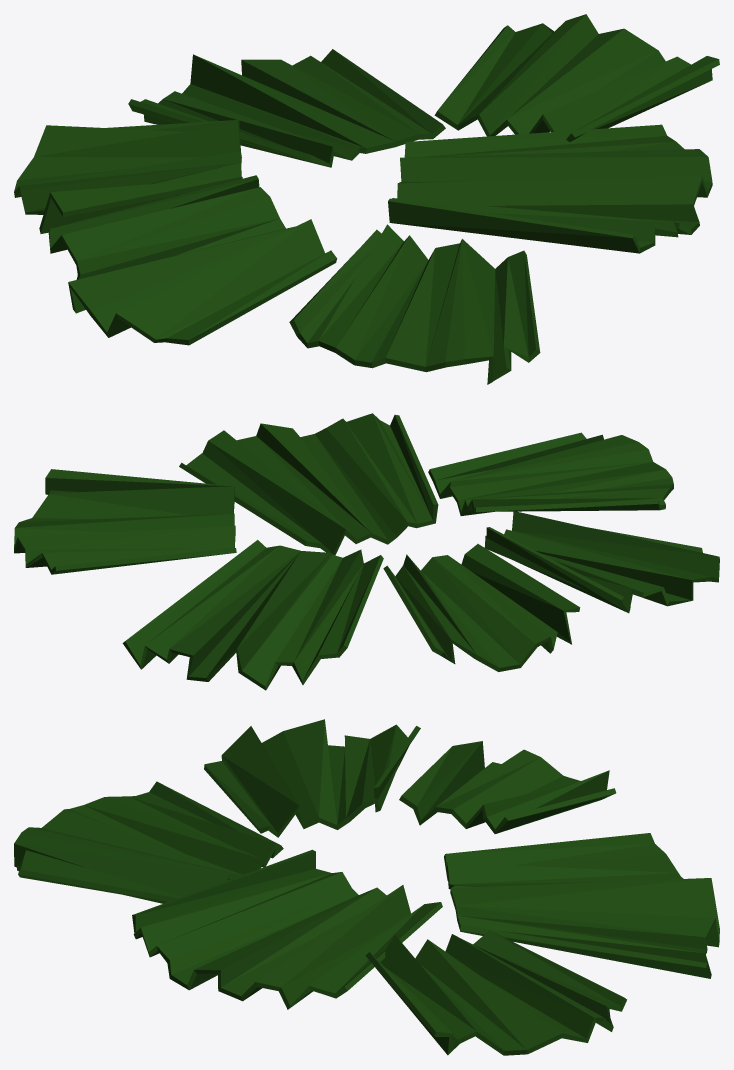
File: Lettuce.obj
3 renders of one model, top to bottom at view 1: azimuth 30°, elevation 25°; view 2: azimuth 150°, elevation 25°; view 3: azimuth 270°, elevation 25°, orthographic. The views are drawn at different scales.
Visible parts, largest first — view 1: Lettuce_Plane.000; view 2: Lettuce_Plane.000; view 3: Lettuce_Plane.000.
Part boxes in pixels (x1,y1,x2,y2): Lettuce_Plane.000: (14,14,719,384); Lettuce_Plane.000: (14,413,719,690); Lettuce_Plane.000: (14,719,719,1055).
Bounding box in the file's own units: 1.79 × 0.2306 × 1.68.
